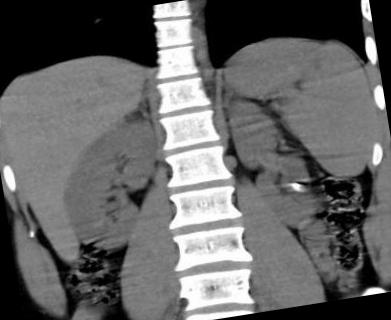Tas_Var: (287, 179, 303, 193)
